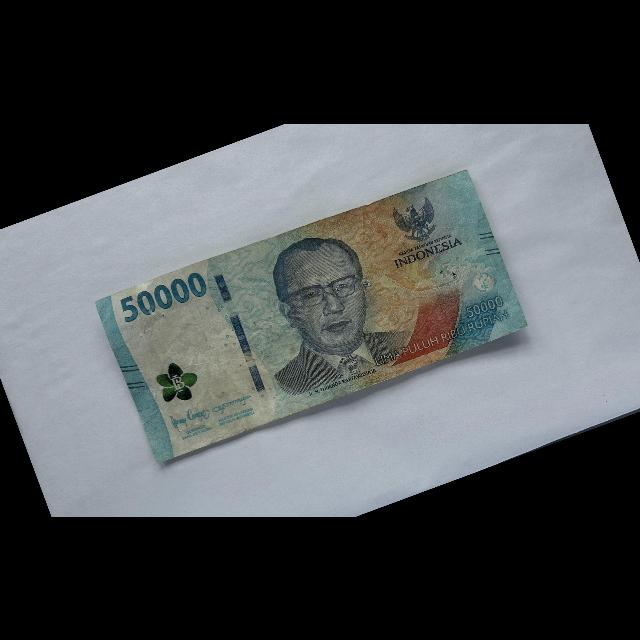Palsu-50k: (92, 159, 533, 469)
Tinta-Palsu-50k: (152, 354, 205, 408)
